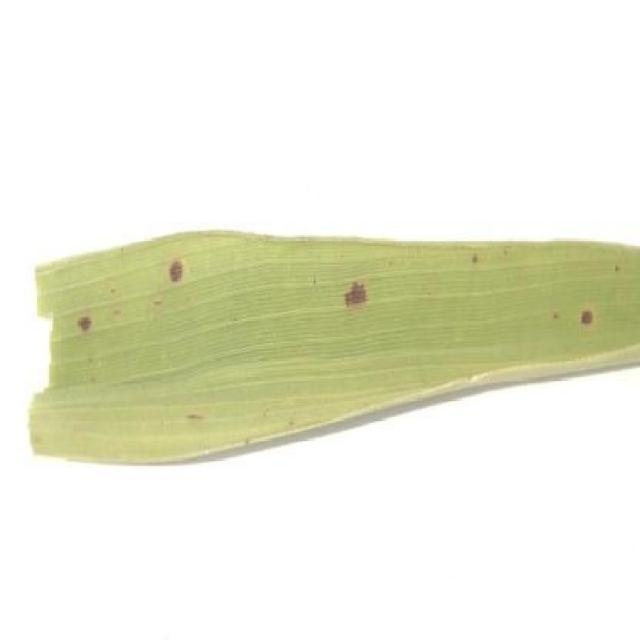Leaf_Blast: (336, 250, 378, 328), (570, 283, 602, 343), (162, 239, 196, 295), (70, 288, 99, 346), (104, 264, 124, 330), (182, 393, 210, 438), (548, 291, 566, 337), (468, 247, 483, 278)
